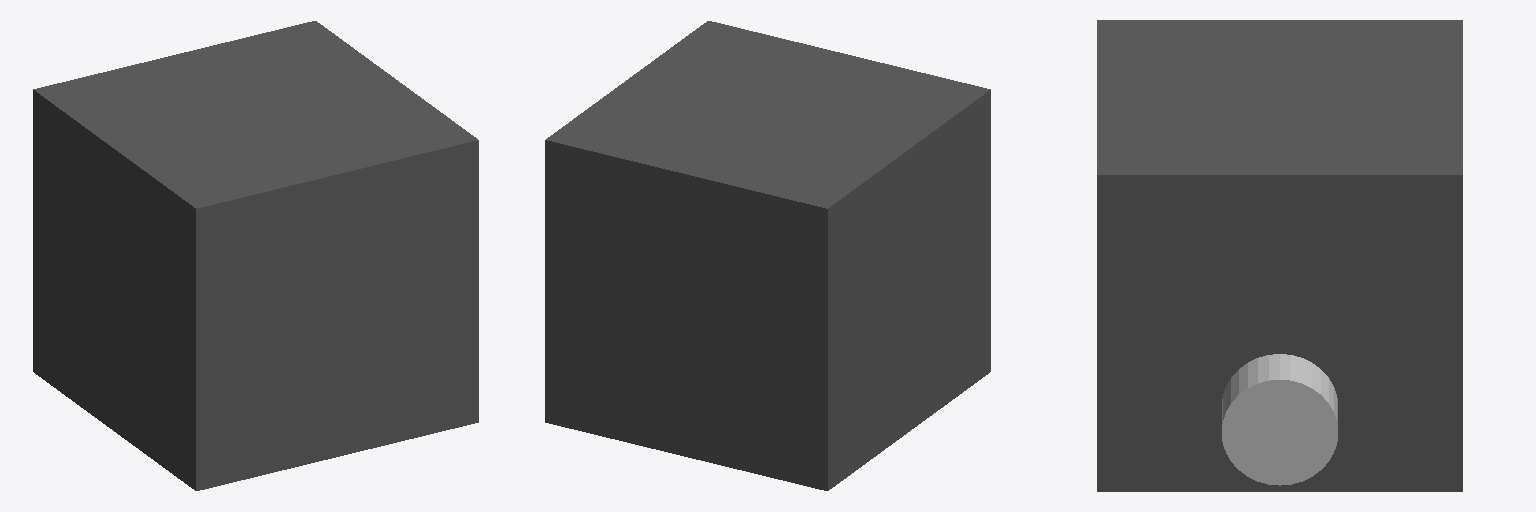
robot.urdf — assist_robot:
<?xml version="1.0"?>
<robot name="assist_robot">
 

  <link name="assist_robot">
    <visual>
      <material name="black"> <color rgba="0.4 0.4 0.4 1"/> </material>
      <geometry>
        <box size="0.45 0.45 0.43"/>
      </geometry>
      <origin xyz="0 0 0.245" rpy="0 0 0"/>
    </visual>
  </link>

  <link name="drogue">
    <visual>
      <material name="silver"> <color rgba="0.8 0.8 0.8 1"/> </material>
      <geometry>
        <cylinder length="0.1" radius="0.072"/>
      </geometry>
      <origin xyz="0 0 -0.05" rpy="0 0 0"/>
    </visual>
  </link>

  <joint name="drogue_joint" type="fixed">
    <parent link="assist_robot"/>
    <child link="drogue"/>
    <origin xyz="0.3 0 0.145" rpy="1.570796 0 1.570796"/>
    <axis xyz="0 0 1" /> 
  </joint>
  
</robot>

--- What the picture shows (computed from the rendered views, not written in the file) ---
3 views of the same robot in one strip: view 1: azimuth 30°, elevation 25°; view 2: azimuth 150°, elevation 25°; view 3: azimuth 270°, elevation 25° (orthographic).
Model assist_robot with 2 links and 1 joints (1 fixed), rooted at assist_robot, posed all joints at 0.
Visible links, largest first — view 1: assist_robot; view 2: assist_robot; view 3: assist_robot, drogue.
Link boxes in pixels (x1=…): assist_robot: x1=33, y1=21, x2=478, y2=490; assist_robot: x1=545, y1=21, x2=990, y2=490; assist_robot: x1=1097, y1=20, x2=1462, y2=491; drogue: x1=1222, y1=354, x2=1337, y2=485.
Bounding box of the posed robot: 0.525 × 0.45 × 0.43 m (x, y, z).
Geometry: primitives only (box / cylinder / sphere), no mesh files.